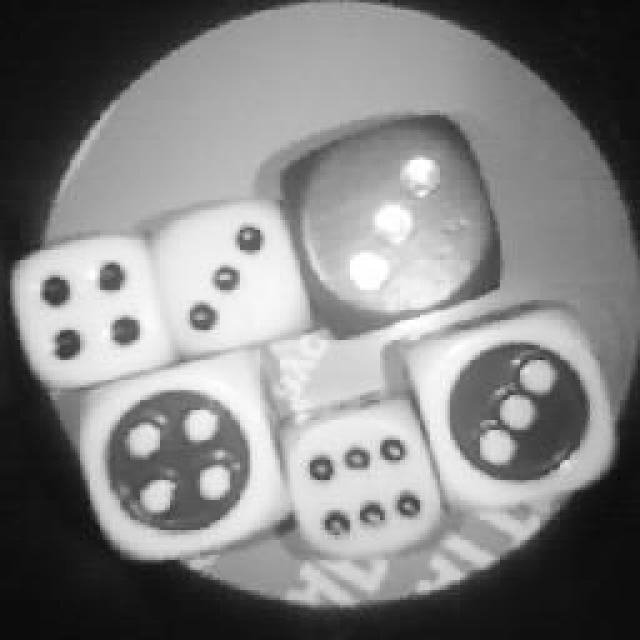dice_3: (290, 110, 492, 338), (415, 310, 613, 512), (142, 170, 312, 368)
dice_4: (85, 355, 277, 557), (8, 230, 172, 385)
dice_6: (282, 408, 428, 550)
